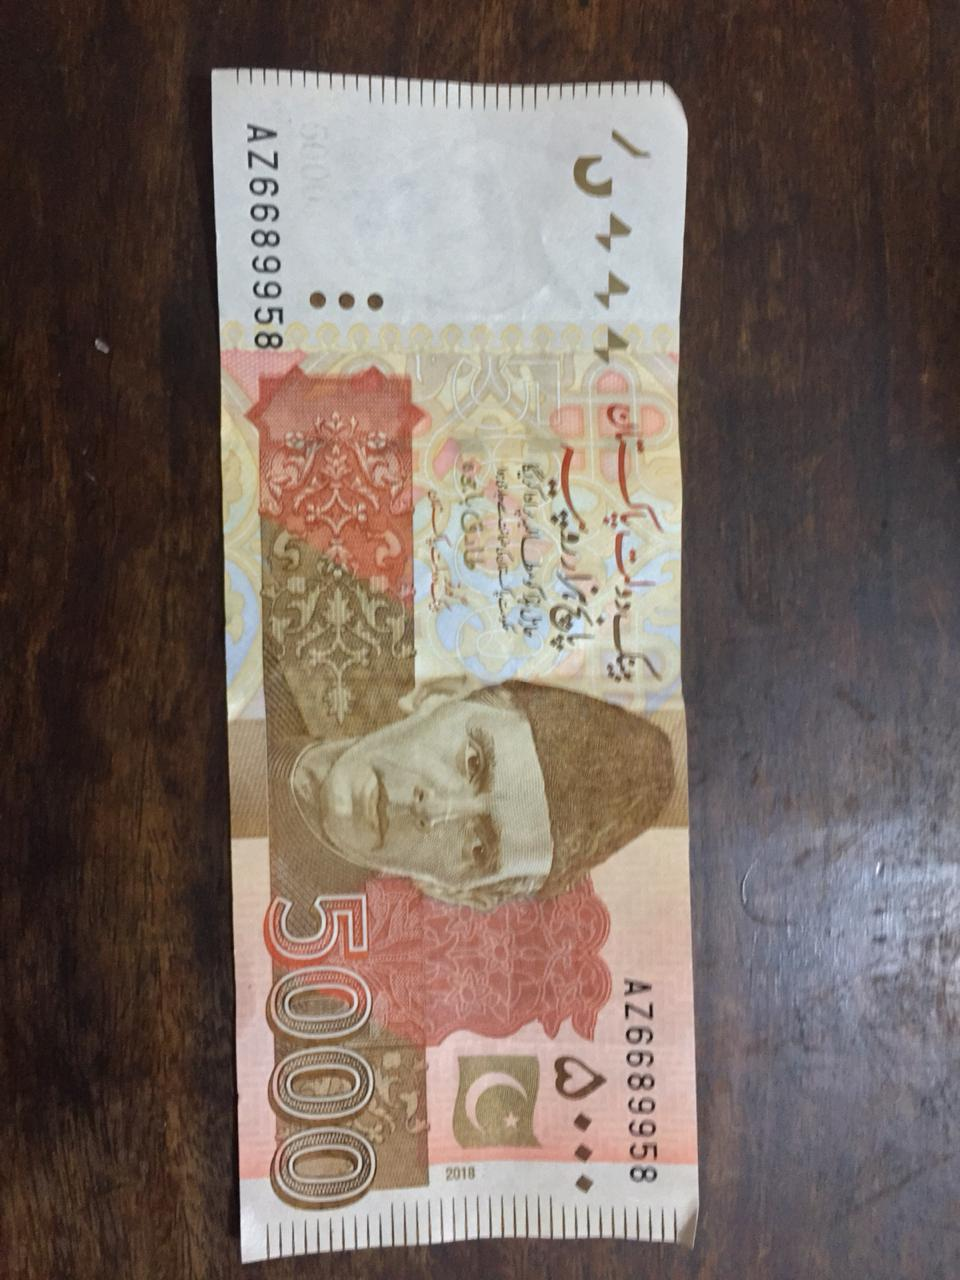5000 rupee: (191, 63, 714, 1280)
